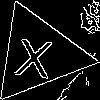X: (13, 29, 56, 79)
